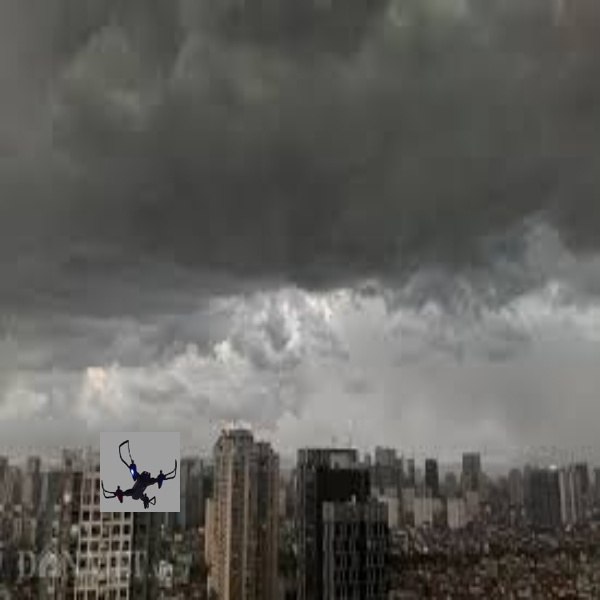drone: (94, 423, 181, 513)
